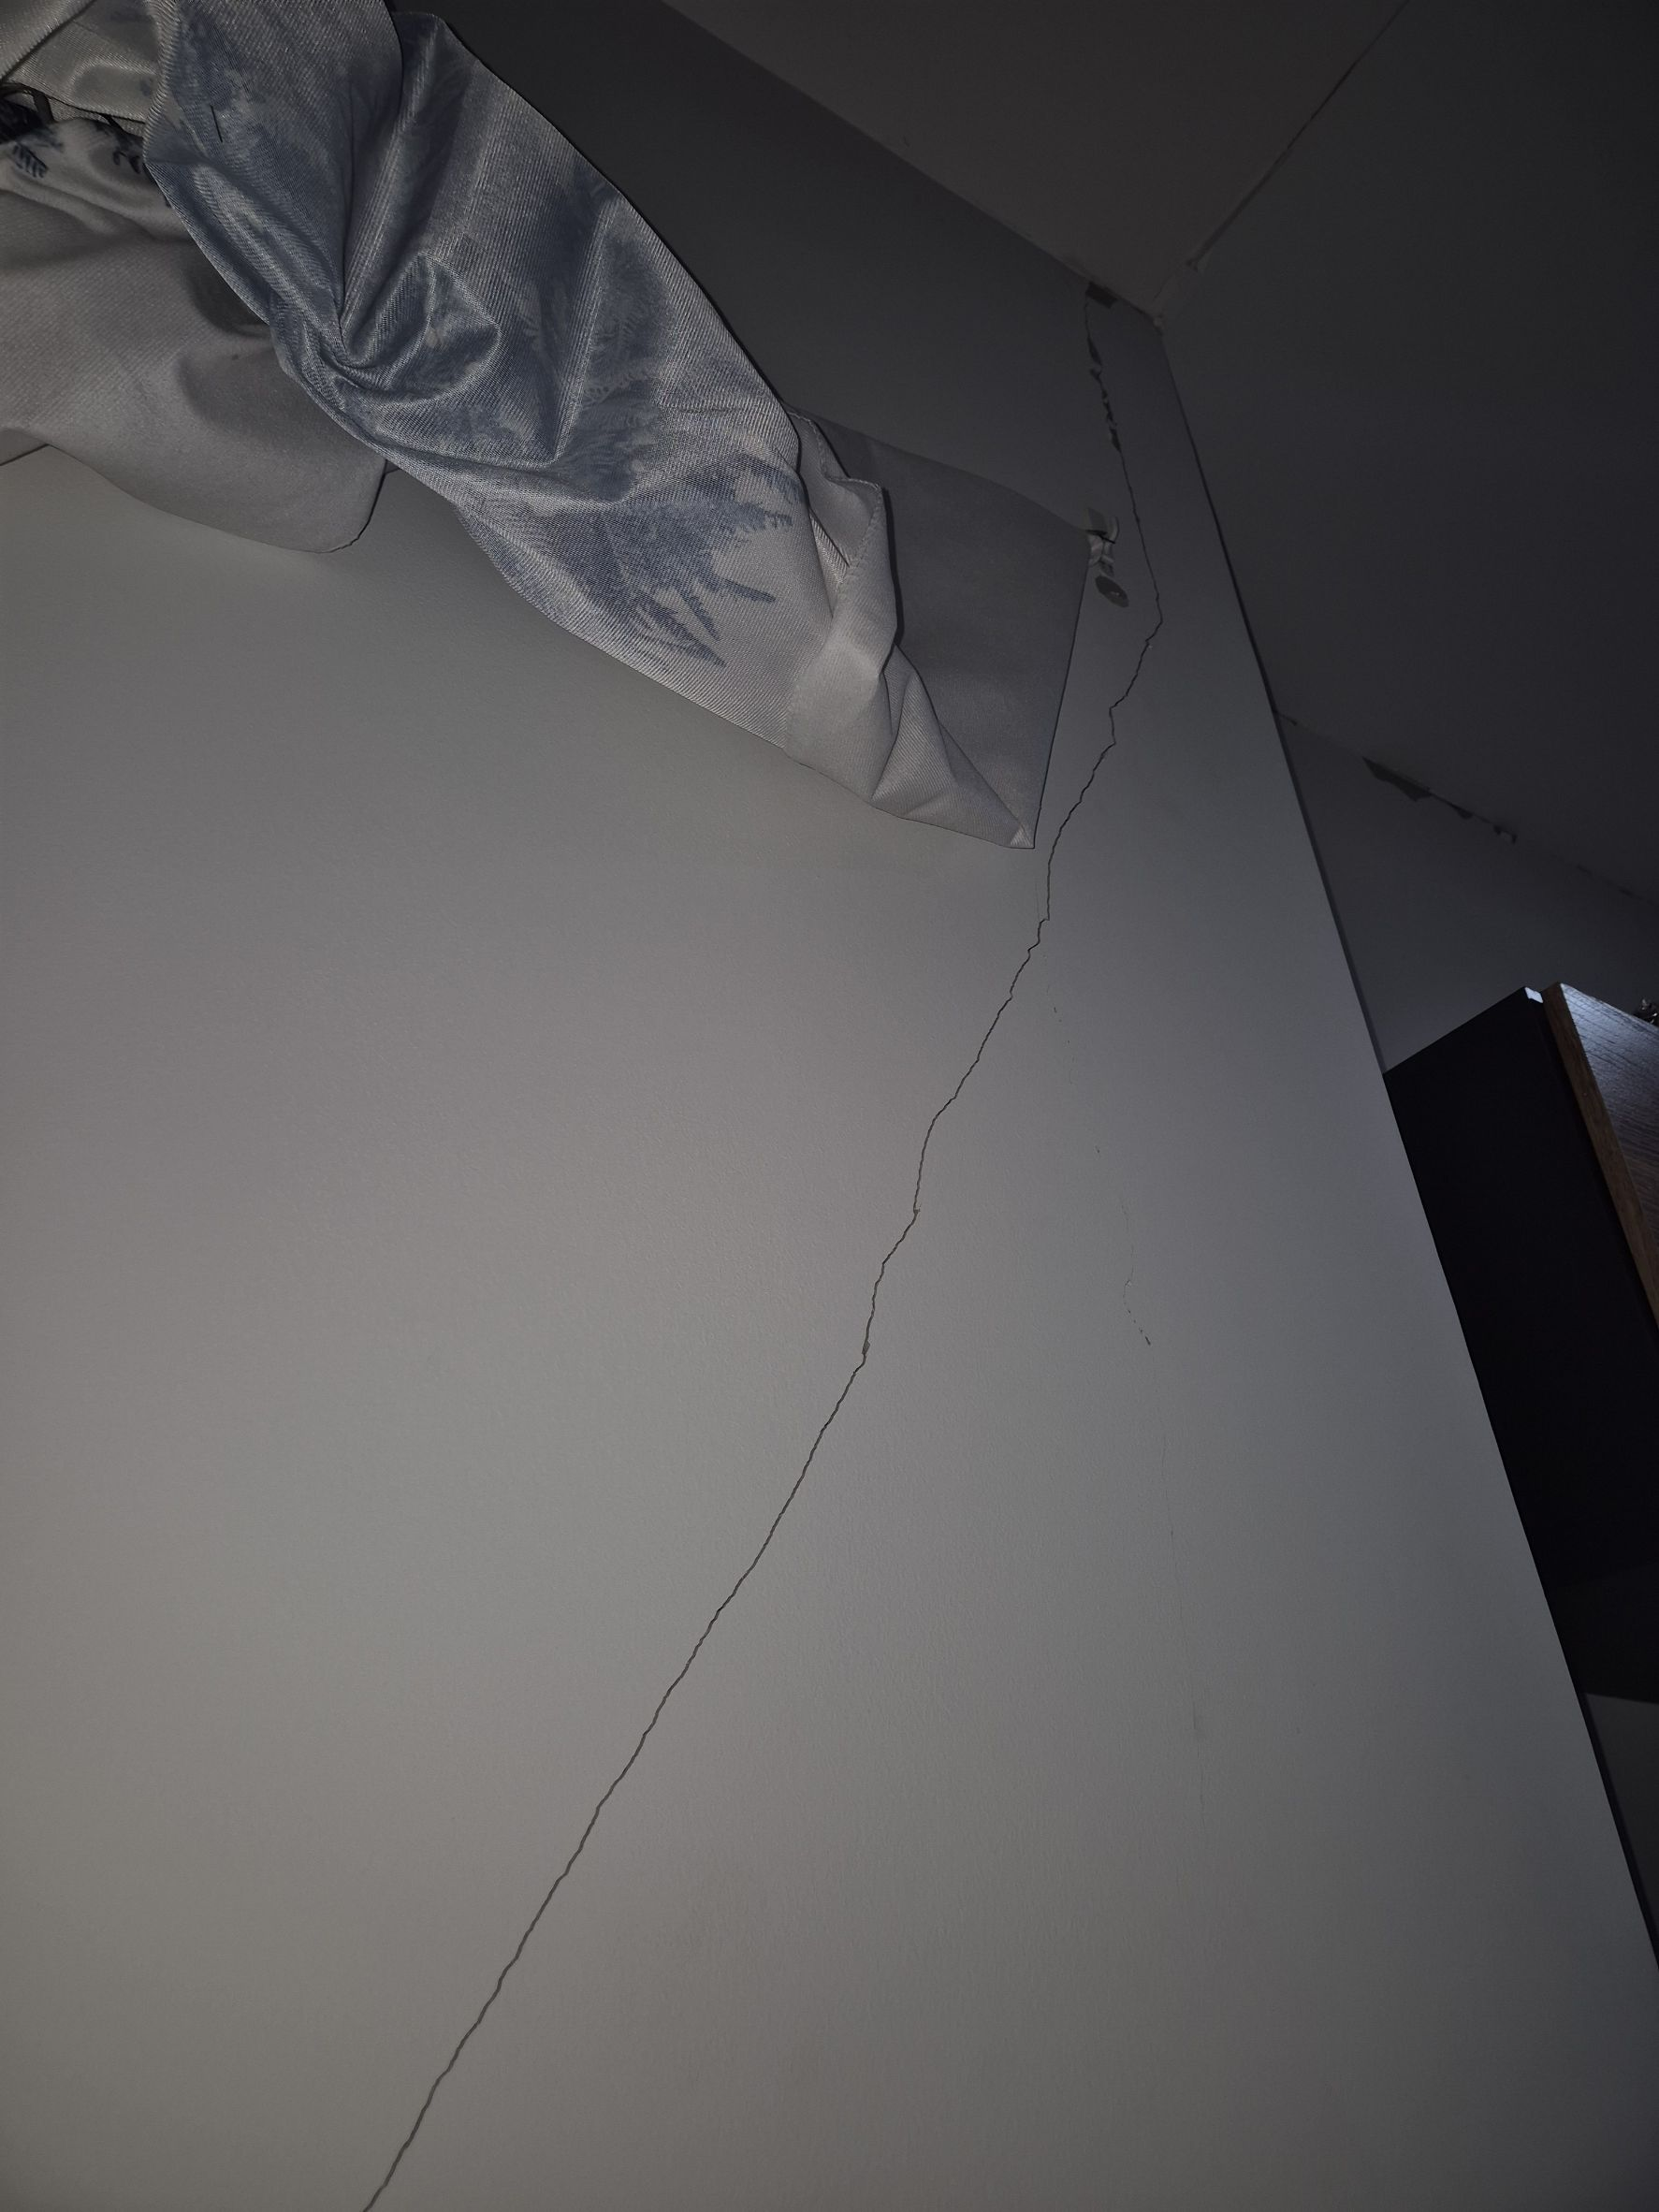Low: (354, 258, 1164, 2207)
